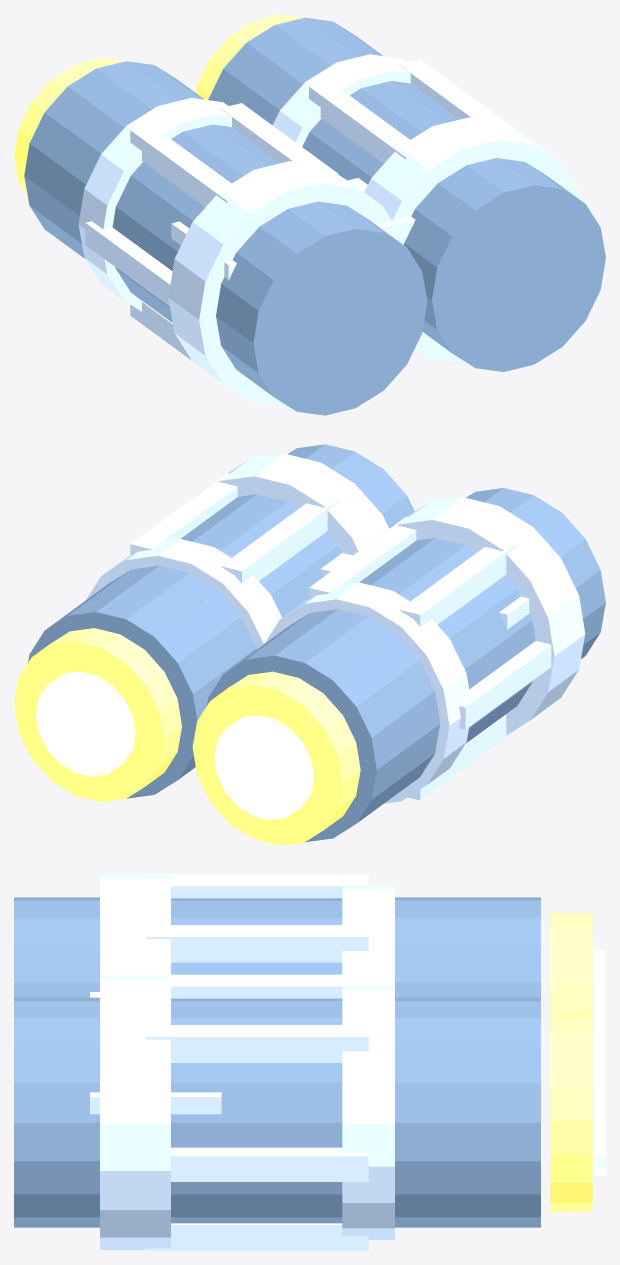
The model's file is thr-2.glb.
3 renders of one model, top to bottom at view 1: azimuth 30°, elevation 25°; view 2: azimuth 150°, elevation 25°; view 3: azimuth 270°, elevation 25°, orthographic. The views are drawn at different scales.
Visible parts, largest first — view 1: body_0, body_1, band_0, band_1, band_back_0, band_back_1, fin_0_2, fin_1_2, fin_0_3, nozzle_0, fin_1_1, fin_0_1 (+3 smaller); view 2: body_0, body_1, nozzle_1, nozzle_0, band_0, band_back_0, core_1, core_0, band_1, band_back_1, fin_0_2, fin_1_2 (+5 smaller); view 3: body_1, body_0, band_1, band_back_1, nozzle_1, fin_1_1, fin_0_1, band_0, fin_1_0, fin_1_5, fin_1_2, fin_0_2 (+5 smaller).
Boxes of the visible parts, x1,y1,x2,y2 form: body_0: (24,61,427,415); body_1: (208,17,605,371); band_0: (168,161,391,406); band_1: (364,117,580,362); band_back_0: (78,98,231,311); band_back_1: (272,54,410,146); fin_0_2: (130,125,231,207); fin_1_2: (309,81,409,163); fin_0_3: (85,221,172,306); nozzle_0: (14,58,125,196); fin_1_1: (399,59,517,131); fin_0_1: (220,103,338,175); body_0: (206,488,605,842); body_1: (28,444,414,798); nozzle_1: (14,628,181,801); nozzle_0: (192,671,360,845); band_0: (372,497,585,735); band_back_0: (264,582,470,803); core_1: (35,671,135,776); core_0: (214,715,314,820); band_1: (194,453,389,555); band_back_1: (86,539,281,649); fin_0_2: (399,543,517,626); fin_1_2: (220,500,338,583); body_1: (14,997,540,1227); body_0: (14,897,540,997); band_1: (100,975,170,1249); band_back_1: (342,985,394,1239); nozzle_1: (550,1013,592,1211); fin_1_1: (145,1025,368,1062); fin_0_1: (145,925,368,962); band_0: (100,875,170,975); fin_1_0: (171,1147,368,1181); fin_1_5: (145,1223,368,1250); fin_1_2: (146,974,368,998); fin_0_2: (145,874,368,898).
Bounding box in the file's own units: 2.53 × 1.34 × 2.92.
